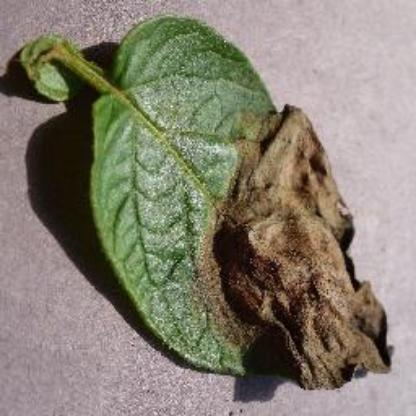Late-Blight: (51, 11, 411, 415)
